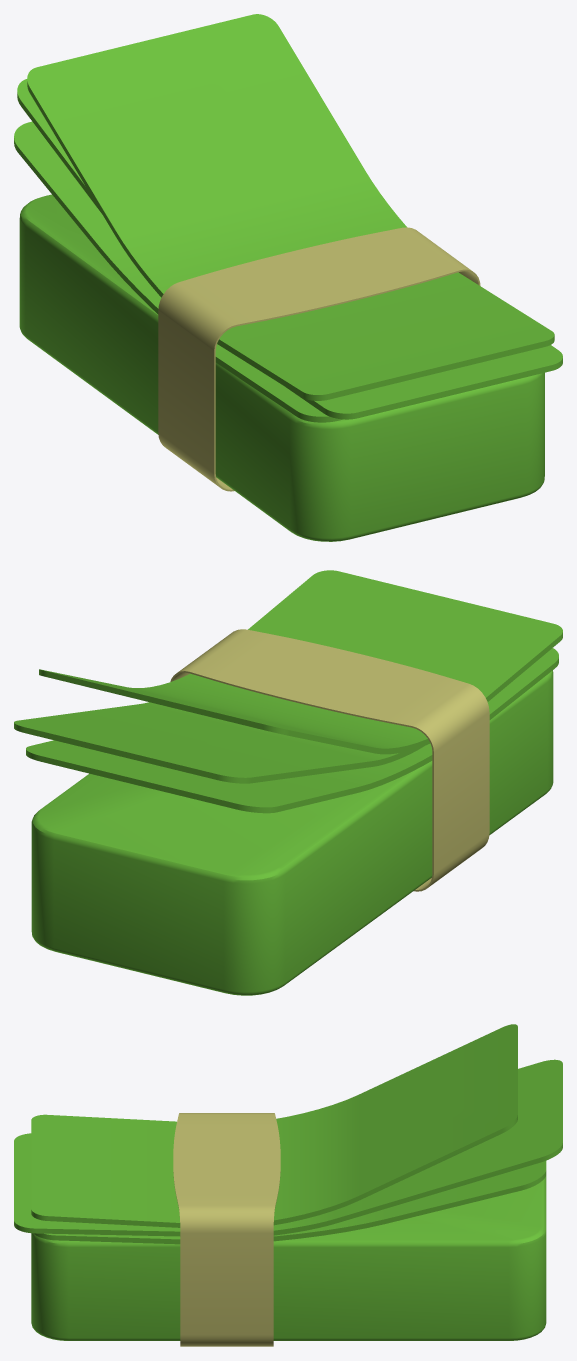
Rendered from revizepara.fbx.
The picture shows the model from 3 angles, top to bottom: view 1: azimuth 30°, elevation 25°; view 2: azimuth 150°, elevation 25°; view 3: azimuth 270°, elevation 25°; orthographic projection. The views are drawn at different scales.
Visible parts, largest first — view 1: Plane.004, Plane, Plane.005, Plane.002, Plane.003; view 2: Plane, Plane.004, Plane.005, Plane.003, Plane.002; view 3: Plane, Plane.004, Plane.005, Plane.003, Plane.002.
Boxes of the visible parts, x1,y1,x2,y2 form: Plane.004: (27,14,554,400); Plane: (19,194,544,541); Plane.005: (158,227,480,491); Plane.002: (14,121,343,422); Plane.003: (17,79,562,419); Plane: (31,670,553,995); Plane.004: (39,570,562,754); Plane.005: (170,629,489,891); Plane.003: (14,702,424,783); Plane.002: (26,648,558,813); Plane: (31,1176,546,1340); Plane.004: (31,1024,517,1227); Plane.005: (173,1113,280,1346); Plane.003: (14,1059,562,1236); Plane.002: (33,1161,546,1244).
Size of the model in its own units: 350 by 345 by 750.
